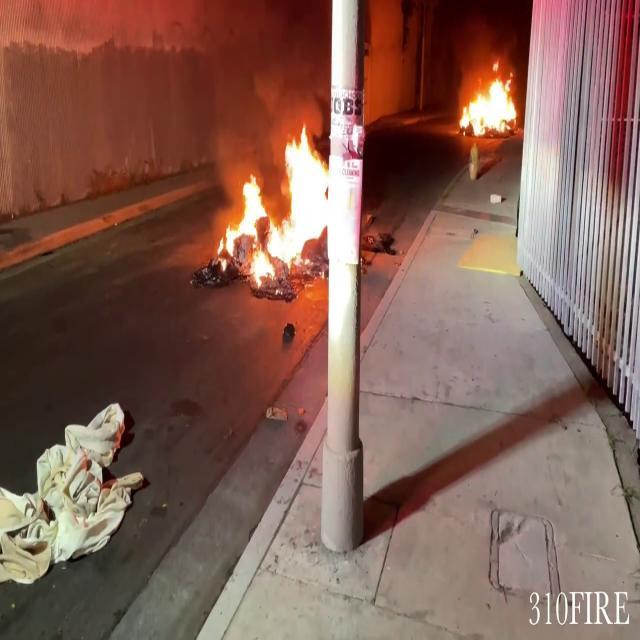Fire: (212, 116, 330, 288), (457, 61, 520, 143)
